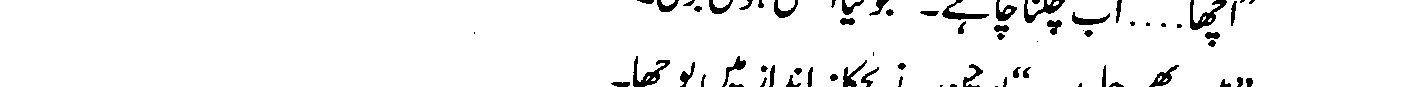bay_shosha: (1068, 9, 1112, 38)
